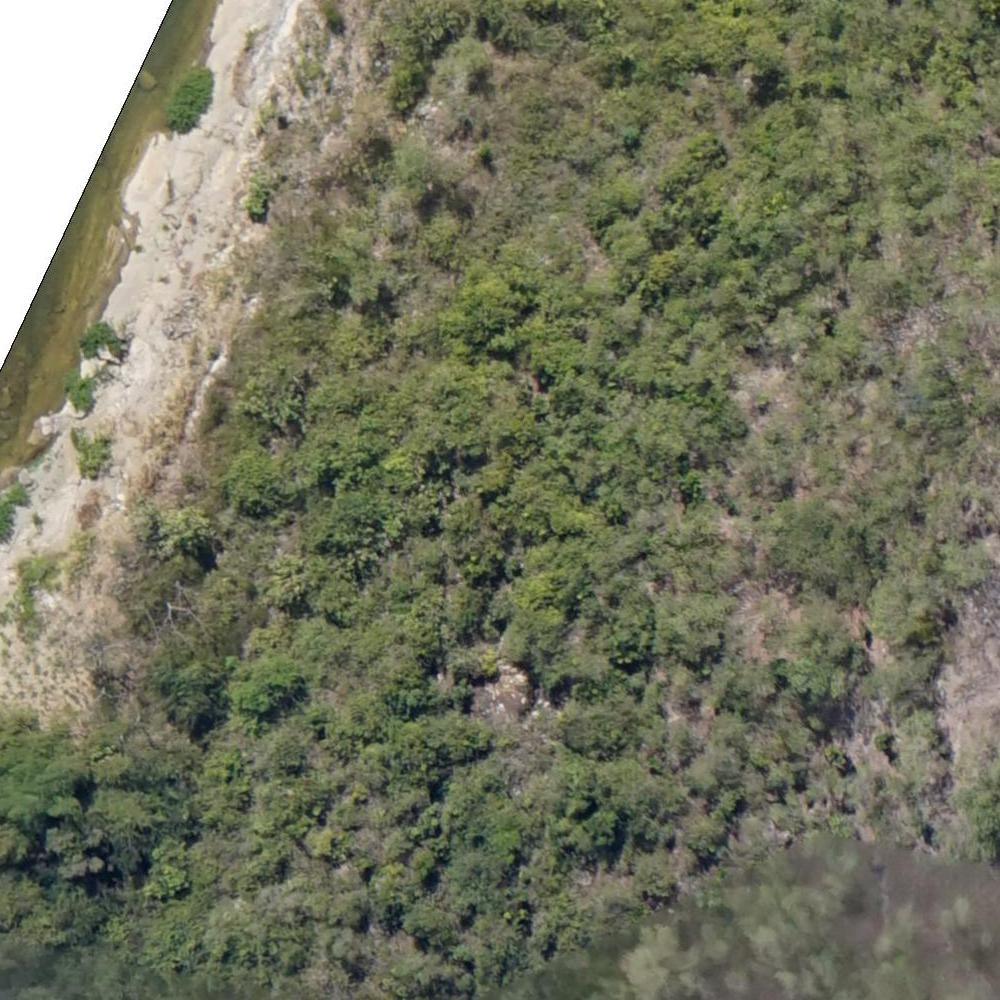tree: (872, 580, 947, 650), (228, 654, 300, 715), (332, 493, 393, 548), (504, 593, 557, 653), (469, 267, 520, 329), (599, 766, 653, 824), (666, 605, 722, 659), (226, 454, 283, 507), (401, 144, 456, 196), (433, 372, 490, 419), (569, 700, 619, 753), (534, 325, 582, 375), (604, 223, 654, 269), (264, 551, 308, 603), (545, 500, 590, 548), (345, 696, 391, 741), (445, 718, 486, 764), (633, 854, 677, 896), (56, 833, 98, 876), (349, 268, 399, 302), (374, 865, 416, 903), (385, 779, 428, 815), (688, 815, 724, 858), (708, 711, 744, 754), (485, 829, 516, 861), (674, 470, 706, 499)
